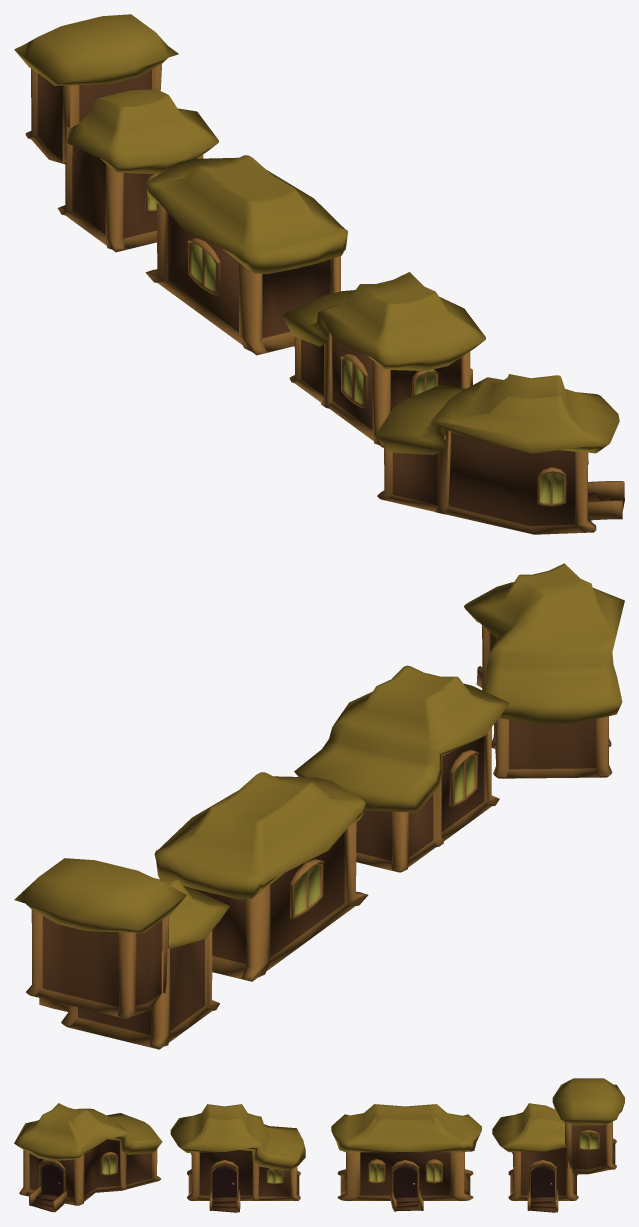
File: FBX_crowIslandHouses_Optimized.fbx
3 renders of one model, top to bottom at view 1: azimuth 30°, elevation 25°; view 2: azimuth 150°, elevation 25°; view 3: azimuth 270°, elevation 25°, orthographic. The views are drawn at different scales.
Parts seen in each view (by area): view 1: house3, house4, house2, house1; view 2: house4, house2, house1, house3; view 3: house2, house4, house3, house1.
Part boxes in pixels (x1,y1,x2,y2): house3: [376, 374, 624, 534]; house4: [14, 14, 218, 252]; house2: [145, 155, 347, 355]; house1: [282, 272, 485, 447]; house4: [14, 858, 229, 1049]; house2: [154, 772, 368, 981]; house1: [294, 665, 509, 872]; house3: [464, 563, 624, 778]; house2: [331, 1104, 481, 1211]; house4: [492, 1078, 624, 1212]; house3: [14, 1103, 162, 1212]; house1: [170, 1104, 305, 1212].
Size of the model in its own units: 672 by 3041 by 536.
